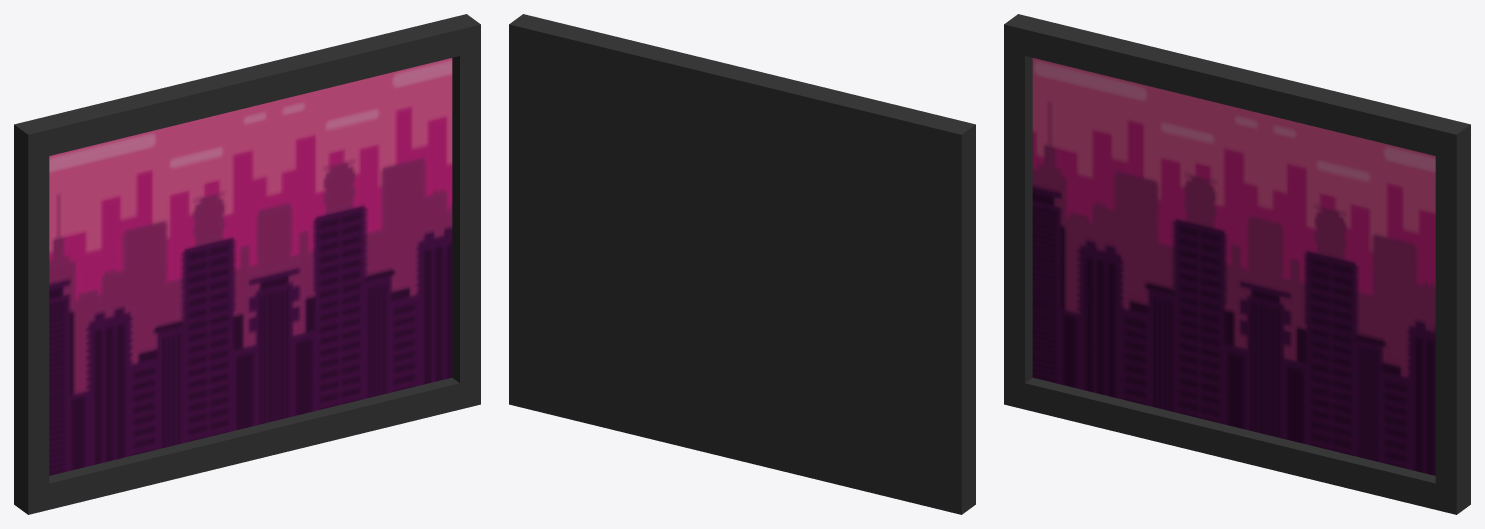
File: B02_Cadre_B_02.fbx
The picture shows the model from 3 angles, left to right: view 1: azimuth 30°, elevation 25°; view 2: azimuth 150°, elevation 25°; view 3: azimuth 330°, elevation 25°; orthographic projection.
Visible parts, largest first — view 1: B02_Cadre_B_02; view 2: B02_Cadre_B_02; view 3: B02_Cadre_B_02.
Boxes of the visible parts, x1=… form: B02_Cadre_B_02: x1=14, y1=14, x2=480, y2=514; B02_Cadre_B_02: x1=509, y1=14, x2=975, y2=514; B02_Cadre_B_02: x1=1004, y1=14, x2=1470, y2=514.
Size of the model in its own units: 495 by 397 by 26.98.
